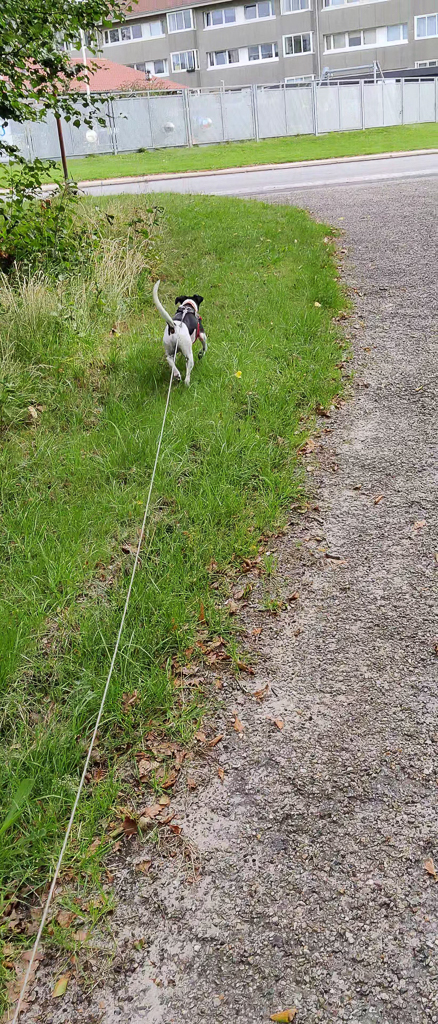Dog: (145, 272, 219, 396)
